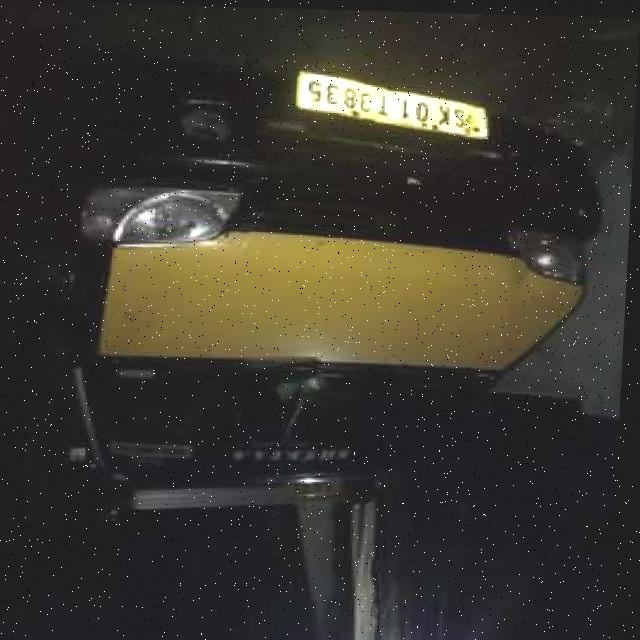plate: (293, 66, 498, 141)
